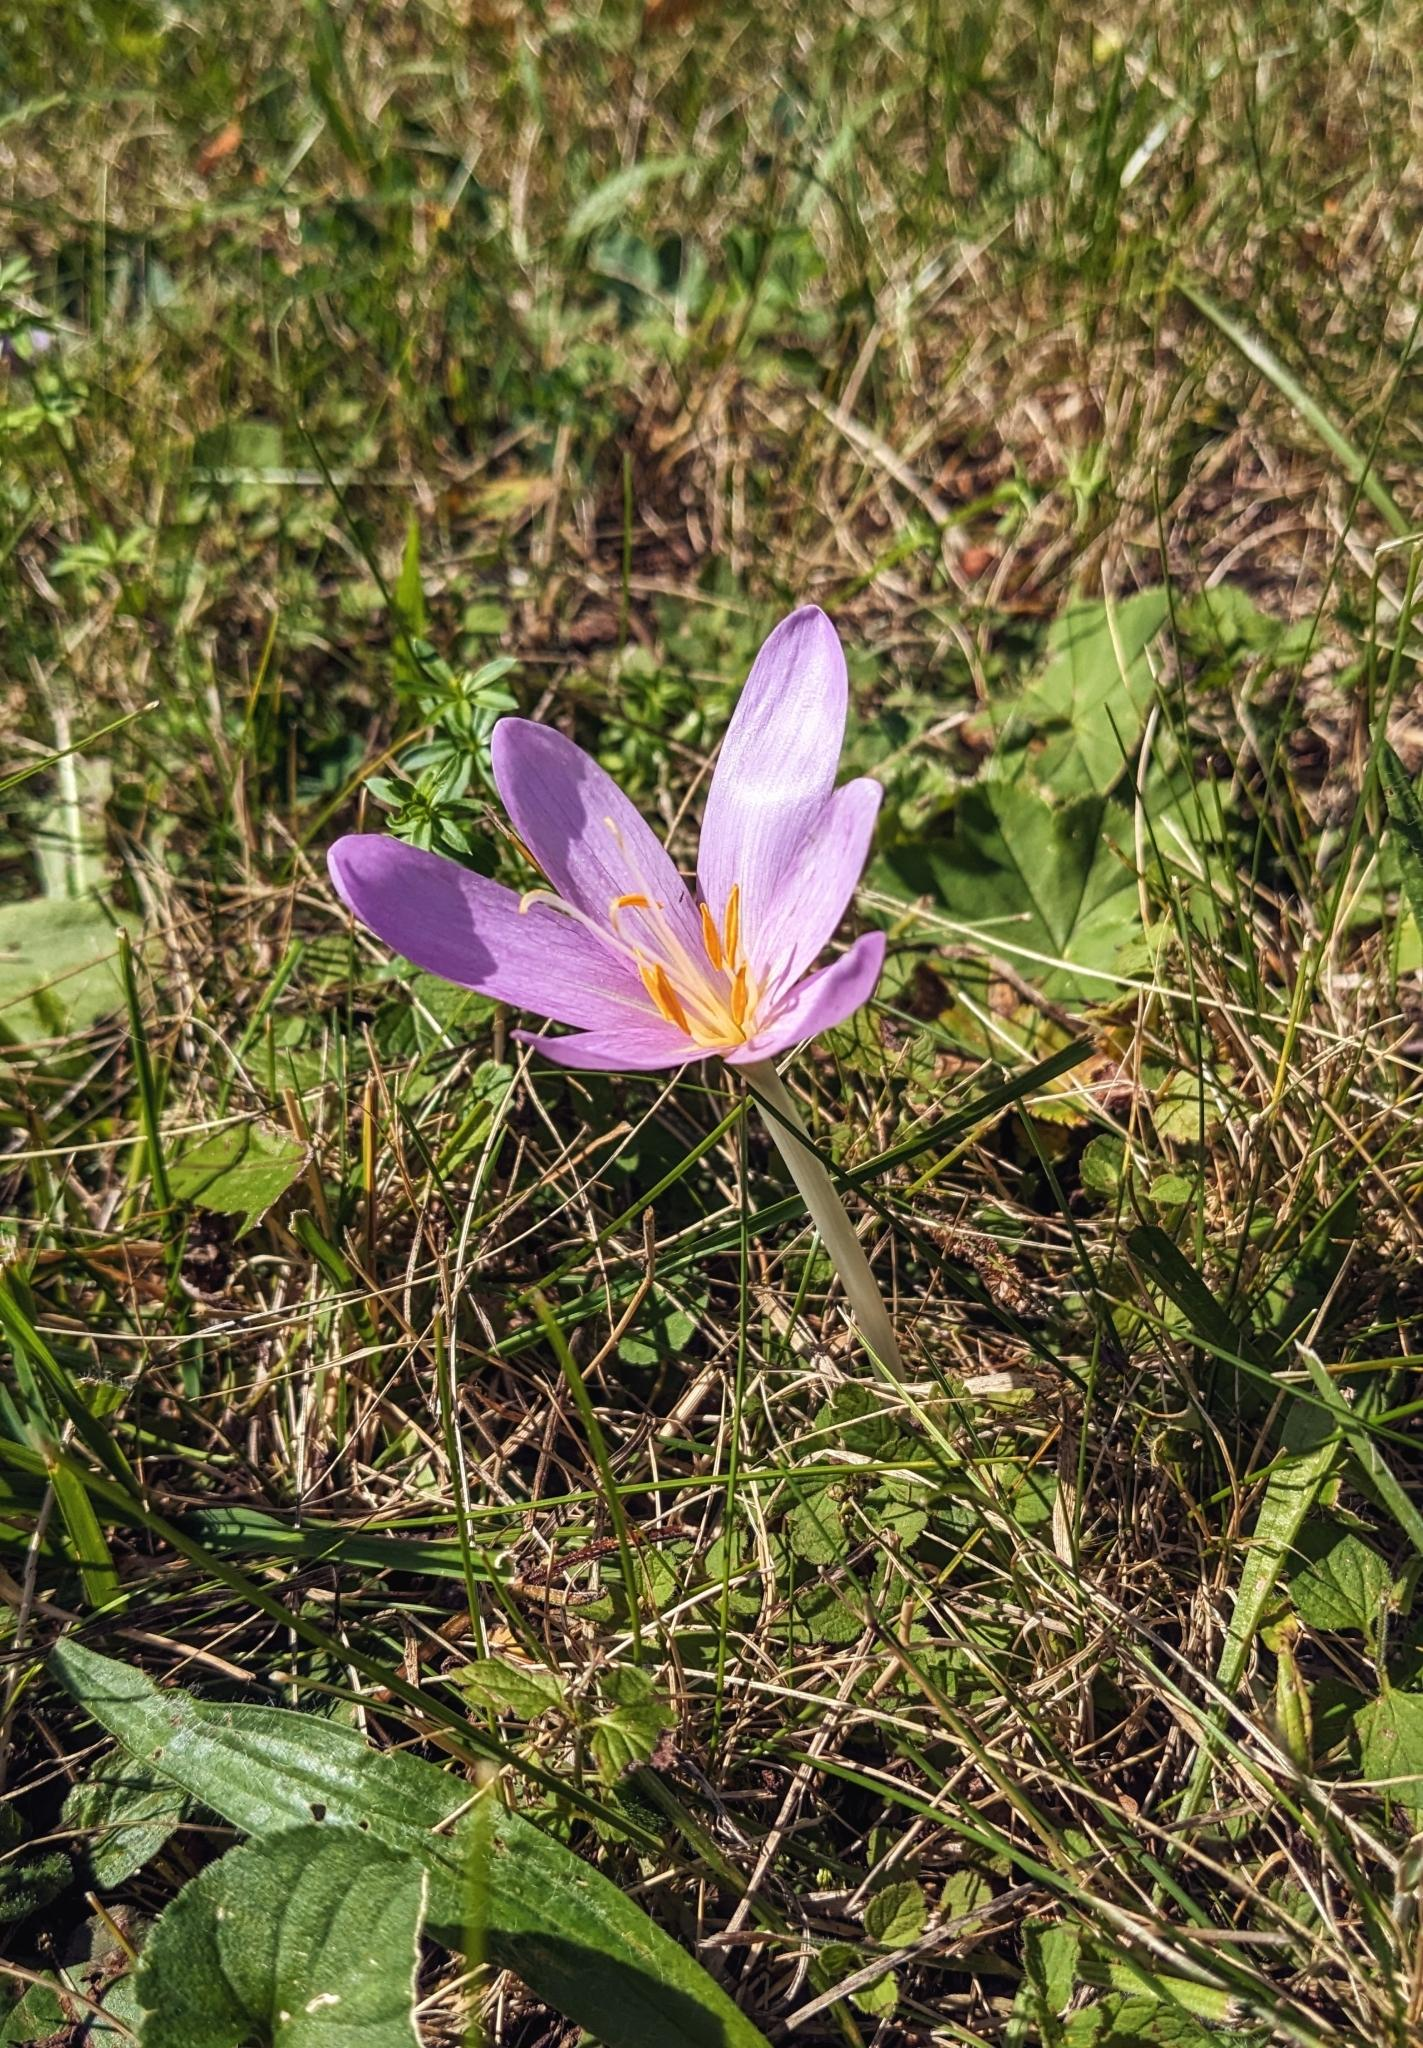Colchicum autumnale L: (268, 598, 1006, 1416)
